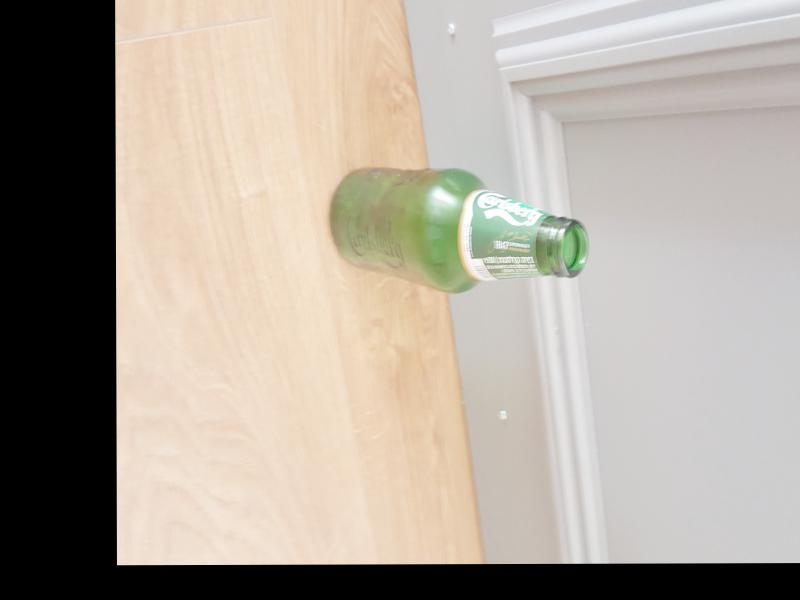Beer: (328, 165, 587, 294)
